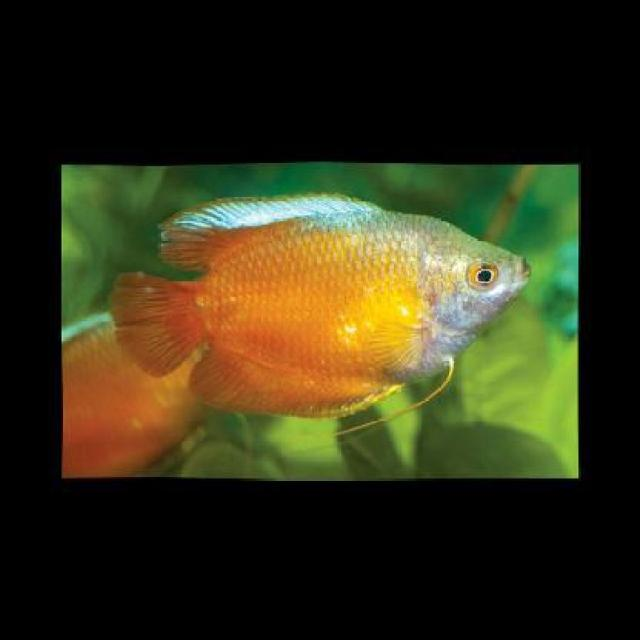Gourami: (109, 188, 532, 418)
